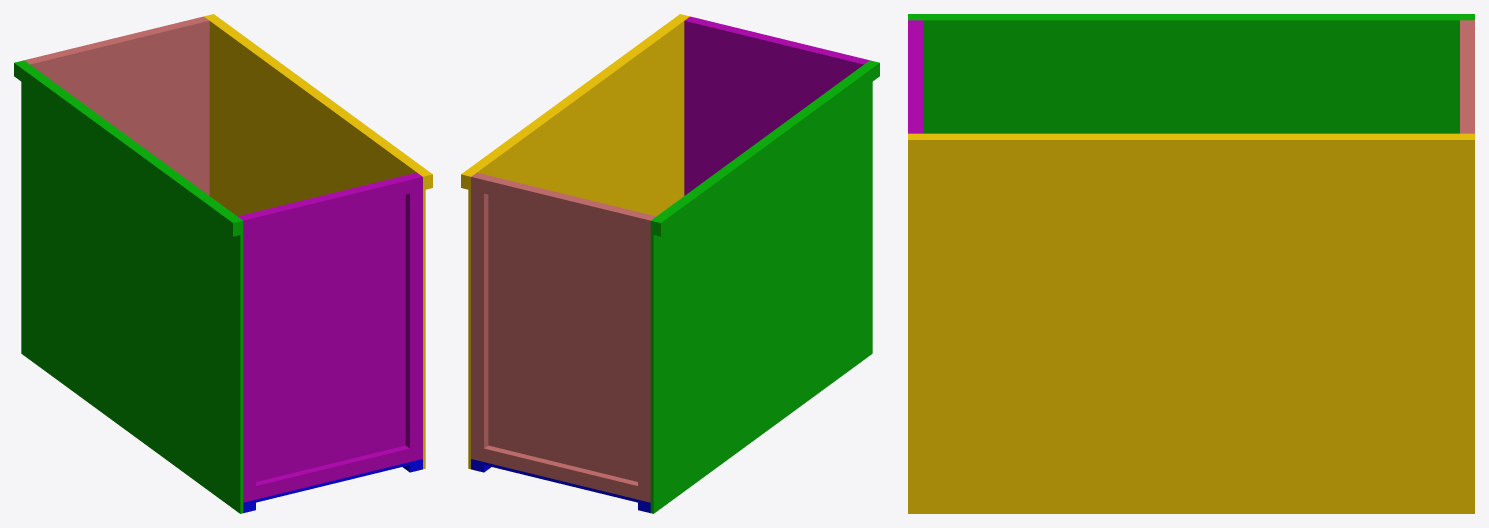
File: result.glb
The picture shows the model from 3 angles, left to right: view 1: azimuth 30°, elevation 25°; view 2: azimuth 150°, elevation 25°; view 3: azimuth 270°, elevation 25°; orthographic projection. The views are drawn at different scales.
Parts seen in each view (by area): view 1: 569b8689-4e87-4378-8c50-139775f62dfd__Box_6, a3460c5c-d775-44ff-8235-b9bbf60e9743__Box_3, 7441021a-7cf7-4825-b24b-fdc7006a3093__undefined, 5322f6a7-6eb3-4f79-8e68-04a74052e3dc__undefined, 9c081953-5b75-41c4-a922-e4aa43da2ecd__undefined, de772594-5480-456c-9ffe-9a9d8c957bf8__Box_7, 9e23352e-25e5-4742-91ab-a412d28bcc9e__Box_4, a4d8f2e9-e2f2-4864-b73c-2ef89214d8ff__undefined, 15778d72-f87f-45f9-9d09-fde61db584db__Box_5, d8d58b88-1918-44da-9556-f5f397474095__undefined, adf5629f-c313-4e20-8698-f2da4e5369e0__undefined, 7ba5a037-6866-4bf5-b720-383a30bdaea0__Box; view 2: 569b8689-4e87-4378-8c50-139775f62dfd__Box_6, 5322f6a7-6eb3-4f79-8e68-04a74052e3dc__undefined, 7441021a-7cf7-4825-b24b-fdc7006a3093__undefined, a3460c5c-d775-44ff-8235-b9bbf60e9743__Box_3, f2462173-de43-4387-b977-0d8c0d8f095b__undefined, de772594-5480-456c-9ffe-9a9d8c957bf8__Box_7, c360884f-e497-45f6-a30d-ccb00b4874af__undefined, adf5629f-c313-4e20-8698-f2da4e5369e0__undefined, fe169ce5-fffb-44d2-8631-c69fadf93d32__undefined, d8d58b88-1918-44da-9556-f5f397474095__undefined, a4d8f2e9-e2f2-4864-b73c-2ef89214d8ff__undefined, 7ba5a037-6866-4bf5-b720-383a30bdaea0__Box; view 3: 7441021a-7cf7-4825-b24b-fdc7006a3093__undefined, 569b8689-4e87-4378-8c50-139775f62dfd__Box_6, d8d58b88-1918-44da-9556-f5f397474095__undefined, de772594-5480-456c-9ffe-9a9d8c957bf8__Box_7, a4d8f2e9-e2f2-4864-b73c-2ef89214d8ff__undefined, adf5629f-c313-4e20-8698-f2da4e5369e0__undefined.
Boxes of the visible parts, x1,y1,x2,y2 form: 569b8689-4e87-4378-8c50-139775f62dfd__Box_6: [21, 60, 243, 513]; a3460c5c-d775-44ff-8235-b9bbf60e9743__Box_3: [237, 172, 418, 481]; 7441021a-7cf7-4825-b24b-fdc7006a3093__undefined: [204, 16, 425, 469]; 5322f6a7-6eb3-4f79-8e68-04a74052e3dc__undefined: [28, 19, 209, 195]; 9c081953-5b75-41c4-a922-e4aa43da2ecd__undefined: [405, 174, 422, 461]; de772594-5480-456c-9ffe-9a9d8c957bf8__Box_7: [14, 61, 240, 236]; 9e23352e-25e5-4742-91ab-a412d28bcc9e__Box_4: [239, 214, 255, 502]; a4d8f2e9-e2f2-4864-b73c-2ef89214d8ff__undefined: [252, 177, 409, 230]; 15778d72-f87f-45f9-9d09-fde61db584db__Box_5: [256, 445, 409, 499]; d8d58b88-1918-44da-9556-f5f397474095__undefined: [207, 14, 432, 189]; adf5629f-c313-4e20-8698-f2da4e5369e0__undefined: [37, 19, 194, 59]; 7ba5a037-6866-4bf5-b720-383a30bdaea0__Box: [243, 459, 422, 505]; 569b8689-4e87-4378-8c50-139775f62dfd__Box_6: [650, 60, 872, 513]; 5322f6a7-6eb3-4f79-8e68-04a74052e3dc__undefined: [475, 172, 656, 481]; 7441021a-7cf7-4825-b24b-fdc7006a3093__undefined: [468, 16, 689, 469]; a3460c5c-d775-44ff-8235-b9bbf60e9743__Box_3: [684, 19, 865, 195]; f2462173-de43-4387-b977-0d8c0d8f095b__undefined: [471, 174, 488, 461]; de772594-5480-456c-9ffe-9a9d8c957bf8__Box_7: [653, 61, 879, 236]; c360884f-e497-45f6-a30d-ccb00b4874af__undefined: [638, 214, 654, 502]; adf5629f-c313-4e20-8698-f2da4e5369e0__undefined: [484, 177, 641, 230]; fe169ce5-fffb-44d2-8631-c69fadf93d32__undefined: [484, 445, 637, 499]; d8d58b88-1918-44da-9556-f5f397474095__undefined: [461, 14, 686, 189]; a4d8f2e9-e2f2-4864-b73c-2ef89214d8ff__undefined: [699, 19, 856, 59]; 7ba5a037-6866-4bf5-b720-383a30bdaea0__Box: [471, 459, 650, 505]; 7441021a-7cf7-4825-b24b-fdc7006a3093__undefined: [908, 133, 1474, 513]; 569b8689-4e87-4378-8c50-139775f62dfd__Box_6: [908, 18, 1474, 133]; d8d58b88-1918-44da-9556-f5f397474095__undefined: [908, 135, 1474, 157]; de772594-5480-456c-9ffe-9a9d8c957bf8__Box_7: [908, 14, 1474, 18]; a4d8f2e9-e2f2-4864-b73c-2ef89214d8ff__undefined: [908, 28, 918, 125]; adf5629f-c313-4e20-8698-f2da4e5369e0__undefined: [1464, 28, 1474, 125].
Size of the model in its own units: 556 by 778 by 1056.
